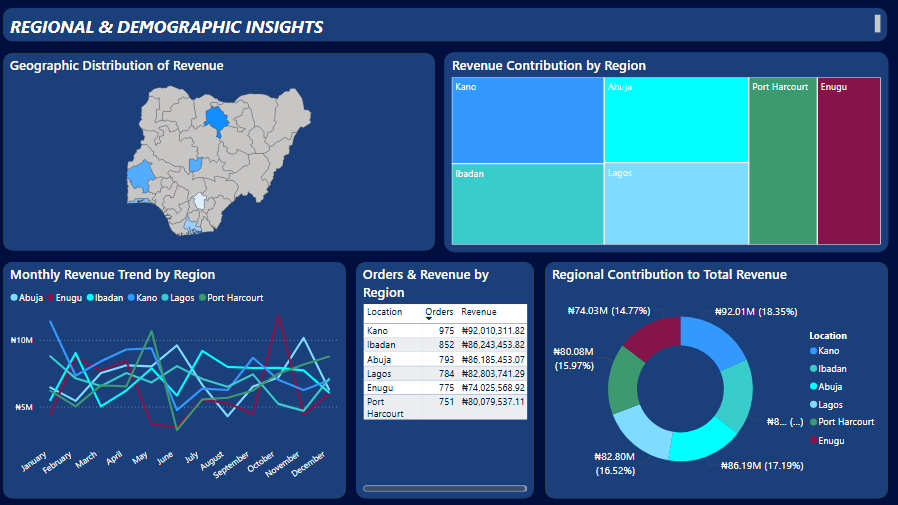

This screenshot's page, from the dashboard's own definition file:
{"tool":"powerbi","page":{"name":"Demographics","canvas":[1280,720],"ordinal":3},"visuals":[{"type":"textbox","box":[10.1,11.8,1256.5,50.4],"z":0},{"type":"treemap","title":"Revenue Contribution by Region","fields":{"Group":["rev by loc.Location"],"Values":["Sum(rev by loc.Revenue)"]},"box":[636.6,75.6,629.9,283.9],"z":1000},{"type":"tableEx","title":"Orders & Revenue by Region","fields":{"Values":["reg orders & rev.Location","reg orders & rev.Orders","reg orders & rev.Revenue"]},"box":[510.7,371.2,255.3,337.6],"z":3000},{"type":"donutChart","title":"Regional Contribution to Total Revenue","fields":{"Y":["Sum(reg rev cont by pct.Revenue)"],"Category":["reg rev cont by pct.Location"]},"box":[777.7,371.2,488.8,337.6],"z":4000},{"type":"lineChart","title":"Monthly Revenue Trend by Region","fields":{"Y":["Sum(reg rev trend.Monthly_Revenue)"],"Series":["reg rev trend.Location"],"Category":["reg rev trend.MonthName"]},"box":[10.1,371.2,488.8,337.6],"z":5000},{"type":"shapeMap","title":"Geographic Distribution of Revenue ","fields":{"Category":["rev by loc.State"],"Value":["Sum(rev by loc.Revenue)"]},"box":[9.9,75.1,615.1,283.5],"z":5001}]}

Visuals, with their boxes in screenshot pixels (x1, y1, x2, y2), scaled from the page's 1280x720 canvas onto the 898x505 screenshot:
textbox: box(7, 8, 889, 44)
"Revenue Contribution by Region" treemap: box(447, 53, 889, 252)
"Orders & Revenue by Region" tableEx: box(358, 260, 537, 497)
"Regional Contribution to Total Revenue" donutChart: box(546, 260, 889, 497)
"Monthly Revenue Trend by Region" lineChart: box(7, 260, 350, 497)
"Geographic Distribution of Revenue " shapeMap: box(7, 53, 438, 252)
